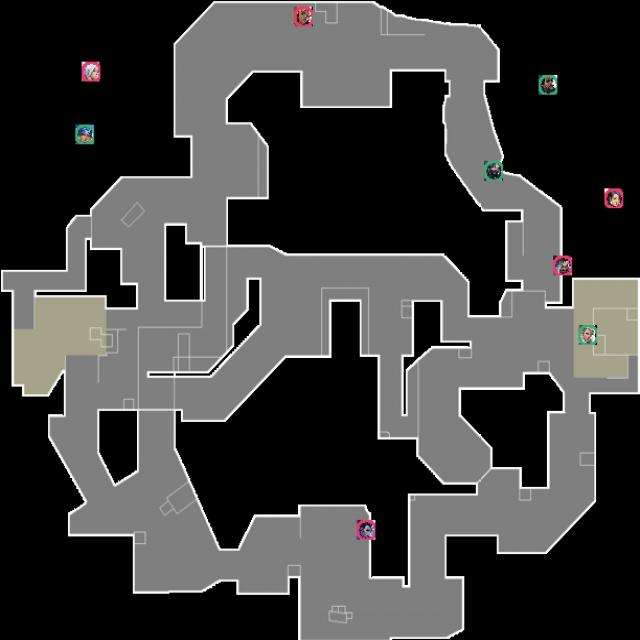atk_fade: (553, 256, 572, 276)
atk_jett: (82, 62, 100, 82)
atk_raze: (294, 6, 313, 26)
atk_sage: (604, 188, 624, 208)
atk_yoru: (356, 520, 376, 540)
def_harbor: (538, 75, 558, 95)
def_neon: (75, 124, 94, 144)
def_sova: (578, 325, 597, 345)
def_viper: (484, 160, 503, 180)
